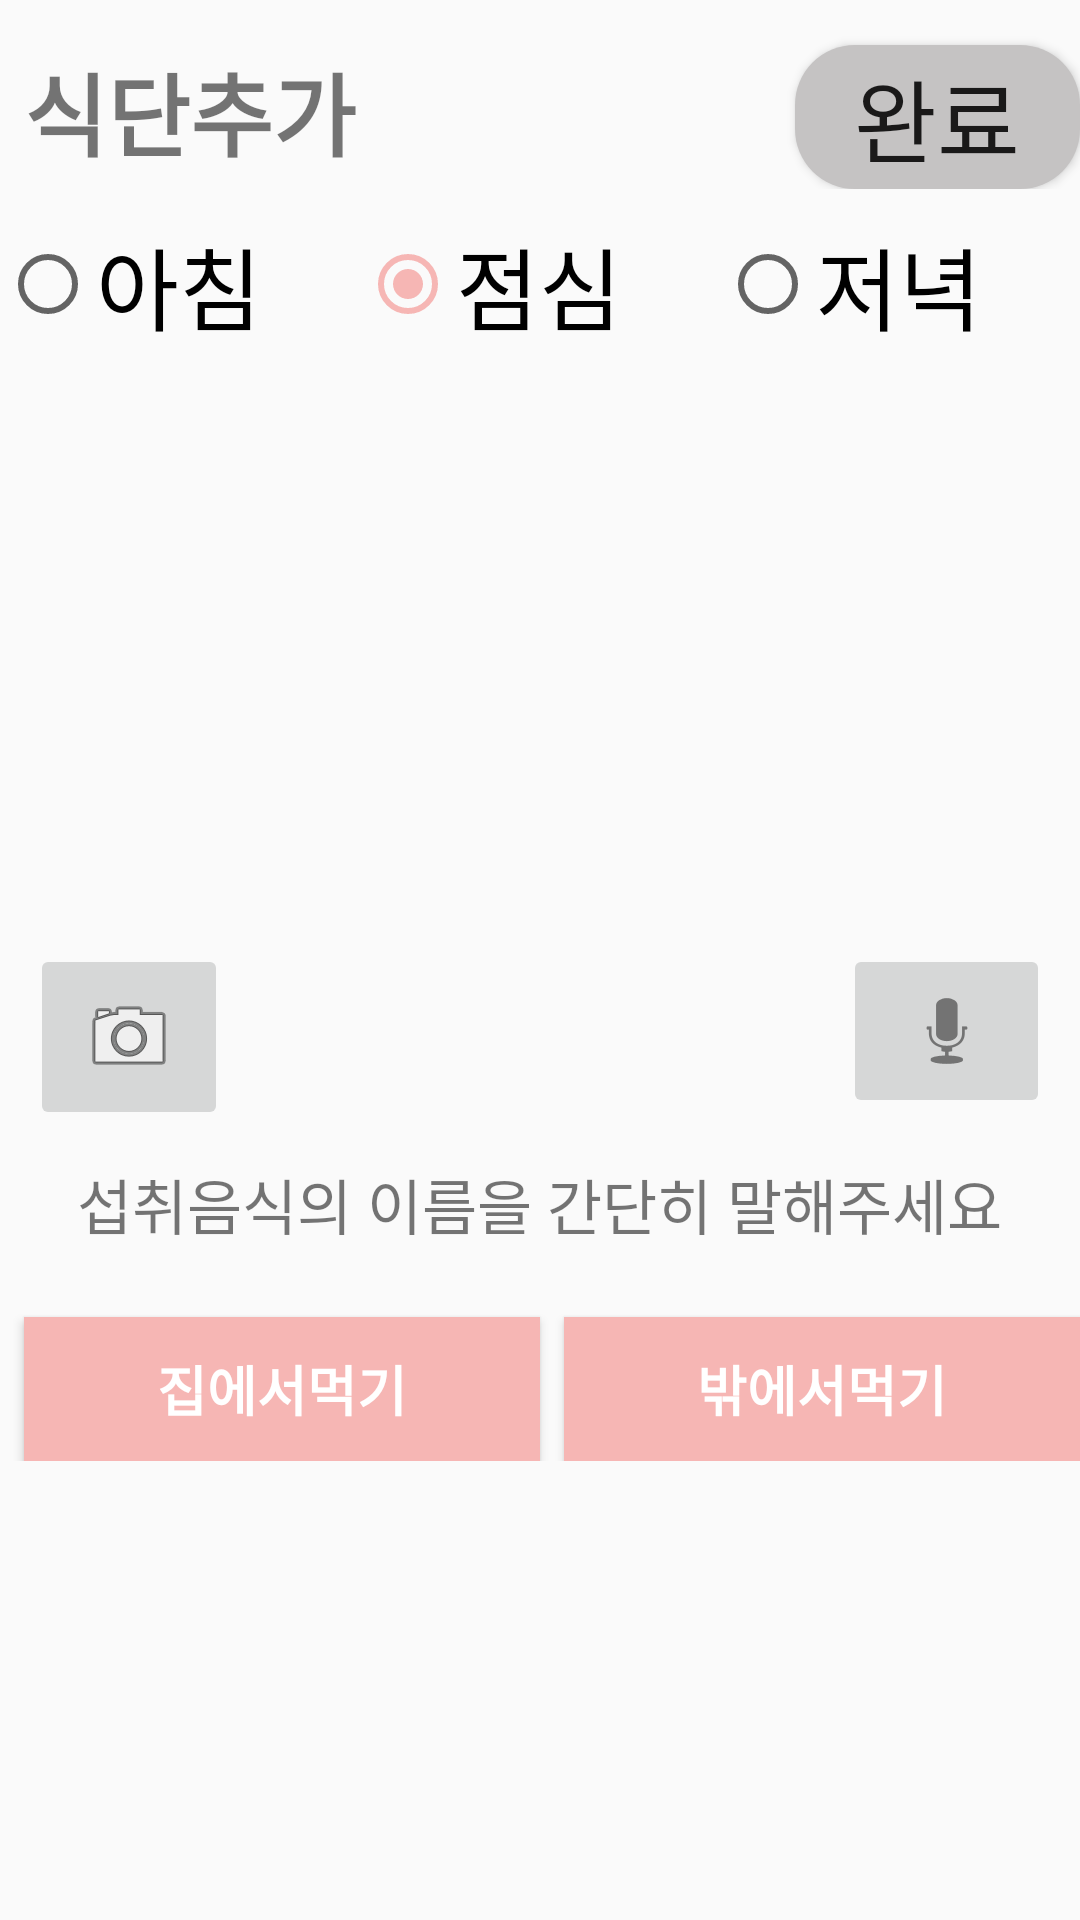

Where icons sit on this 1080px x 1920px app screen, as (x1, y1, x2, y2):
camera: (42, 962, 216, 1112)
speak now: (855, 962, 1038, 1100)
